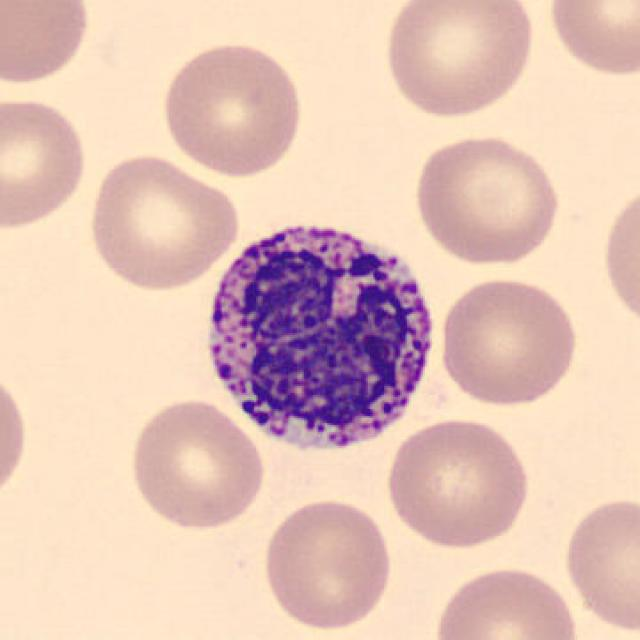Basophil: (192, 204, 444, 469)
RBC: (85, 150, 242, 293), (409, 130, 565, 268), (156, 37, 306, 180), (382, 414, 535, 552), (124, 393, 268, 533), (436, 273, 582, 409), (378, 0, 538, 122), (258, 494, 396, 633), (0, 93, 91, 233), (430, 562, 583, 640), (560, 492, 638, 635), (0, 0, 94, 88), (542, 0, 640, 81), (597, 175, 640, 336), (0, 363, 32, 510)
